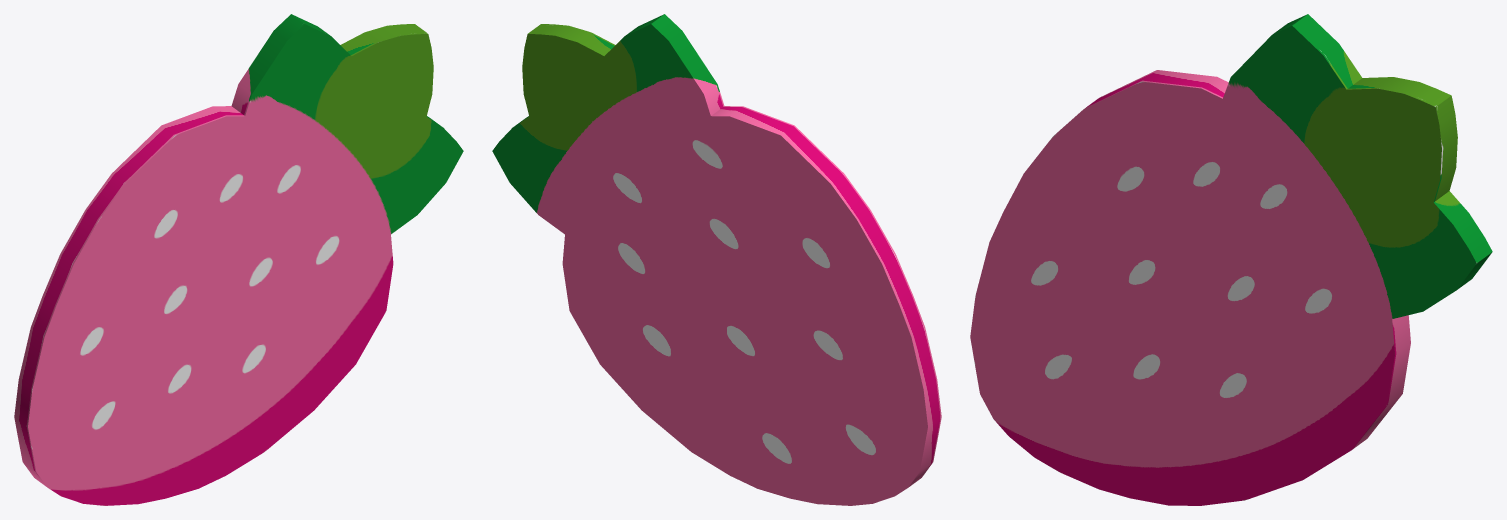
File: Strawberry.fbx
The picture shows the model from 3 angles, left to right: view 1: azimuth 30°, elevation 25°; view 2: azimuth 150°, elevation 25°; view 3: azimuth 330°, elevation 25°; orthographic projection. The views are drawn at different scales.
Parts seen in each view (by area): view 1: polySurface1; view 2: polySurface1; view 3: polySurface1.
Part boxes in pixels (bbox=[...]): polySurface1: bbox=[14, 14, 463, 505]; polySurface1: bbox=[492, 14, 941, 505]; polySurface1: bbox=[970, 14, 1492, 505].
Size of the model in its own units: 23.15 by 22.37 by 1.26.
Materials: 1 (1 with a texture image).
